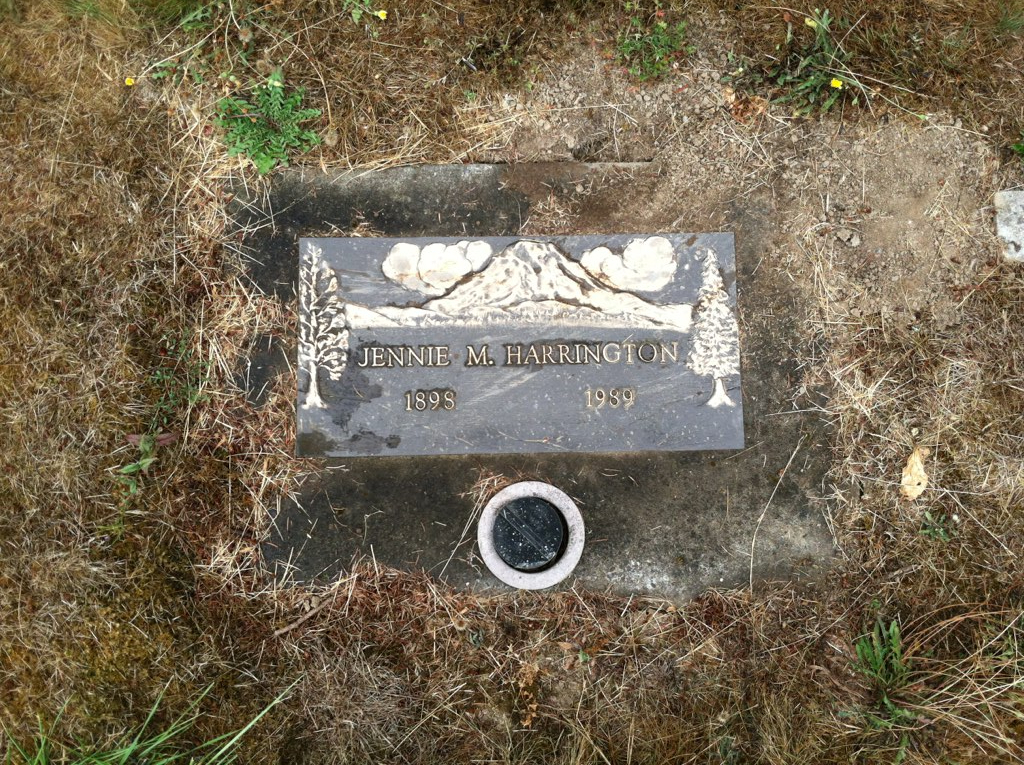flat: (281, 229, 748, 461)
